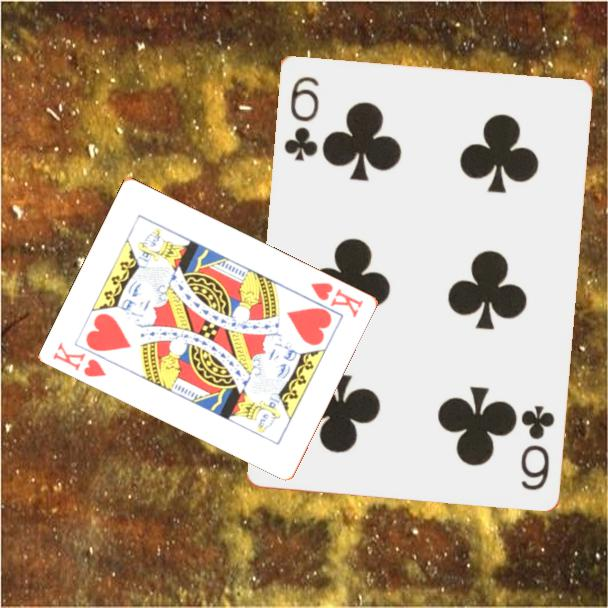c06: (280, 72, 321, 164), (516, 401, 557, 493)
h13: (50, 339, 110, 380), (307, 279, 366, 320)
